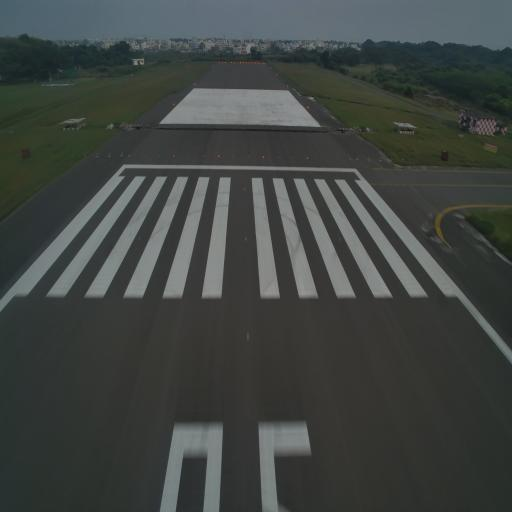off: (95, 154, 100, 160), (143, 152, 147, 158), (157, 152, 161, 158), (202, 153, 206, 159), (276, 154, 280, 160), (291, 154, 295, 160), (334, 156, 338, 162), (378, 156, 382, 162), (320, 156, 324, 161), (120, 153, 124, 158), (367, 156, 371, 161), (247, 153, 250, 159), (356, 156, 359, 162), (187, 153, 190, 158), (108, 153, 111, 158), (232, 154, 235, 158)
on: (246, 332, 251, 342), (242, 185, 246, 193), (127, 152, 131, 159), (244, 236, 248, 242), (217, 153, 221, 159), (348, 156, 352, 162), (262, 155, 266, 160), (172, 153, 175, 159), (306, 156, 309, 160)
